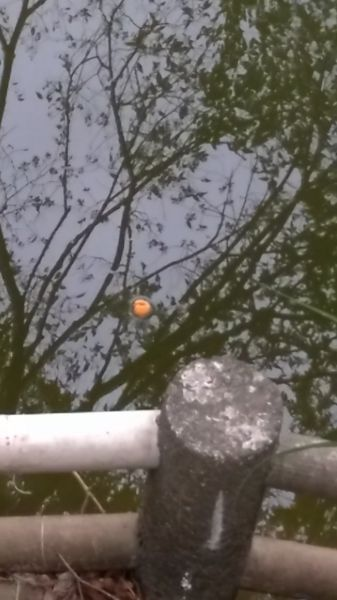eggs: (128, 291, 158, 323)
